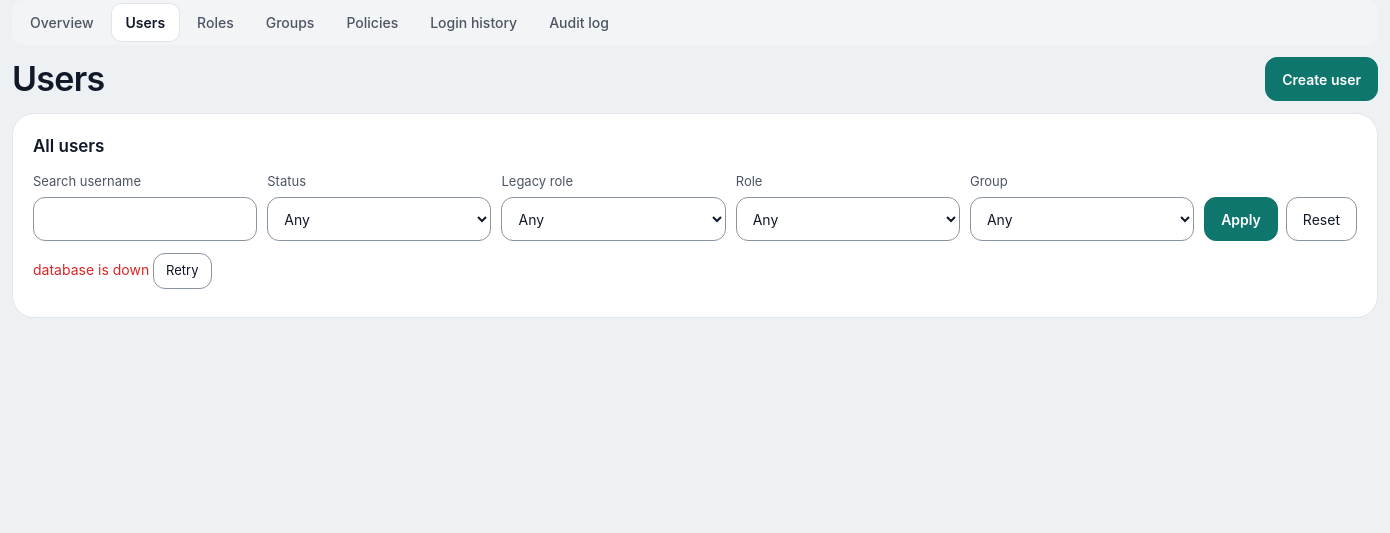
Scenario: IAM users list › shows the server's message for other errors, with a retry
expect the text "database is down Retry" is shown: met, box top-left (33, 253), bottom-right (212, 289)
Click the button "Retry": (182, 271) top-left (153, 253), bottom-right (212, 289)
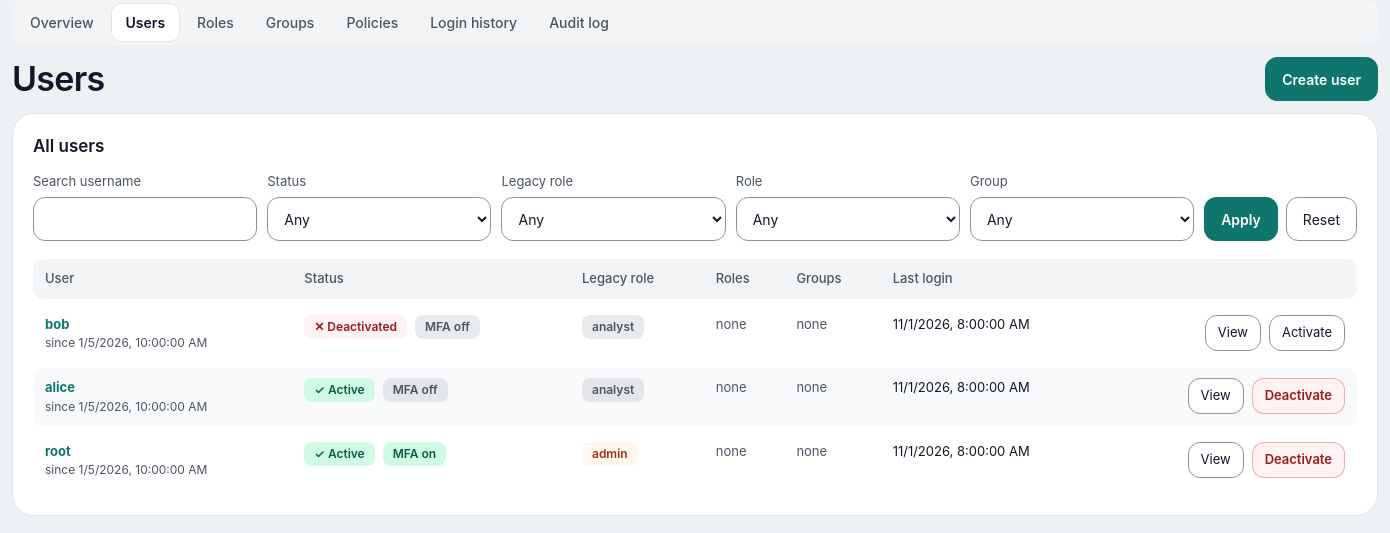
expect the link "alice" is shown: met, box top-left (45, 379), bottom-right (75, 395)
